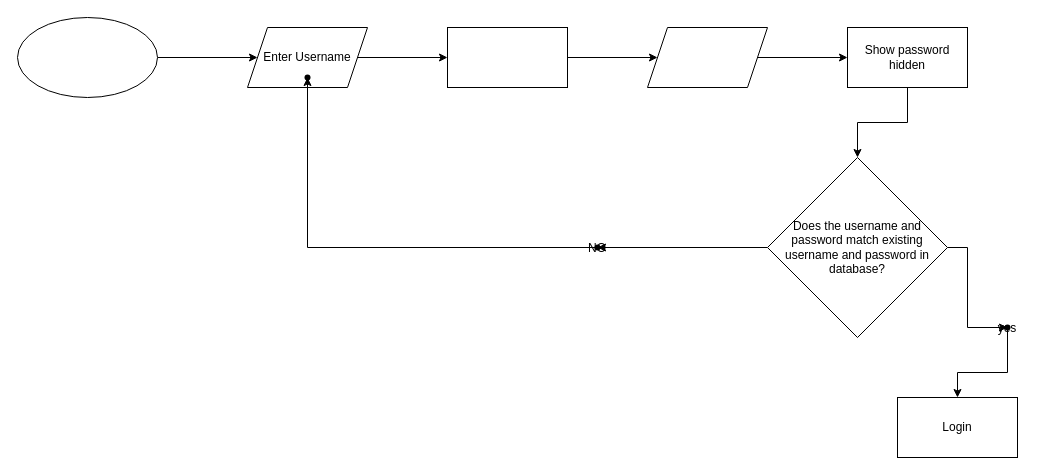
This 1045x475 diagram has some shape labels left out. The shapes that lost their labels are listed below. From the top down, each one's centre as x and y in pixels, then its label:
[87,57]: Start application
[507,57]: Show Username
[707,57]: Enter password
